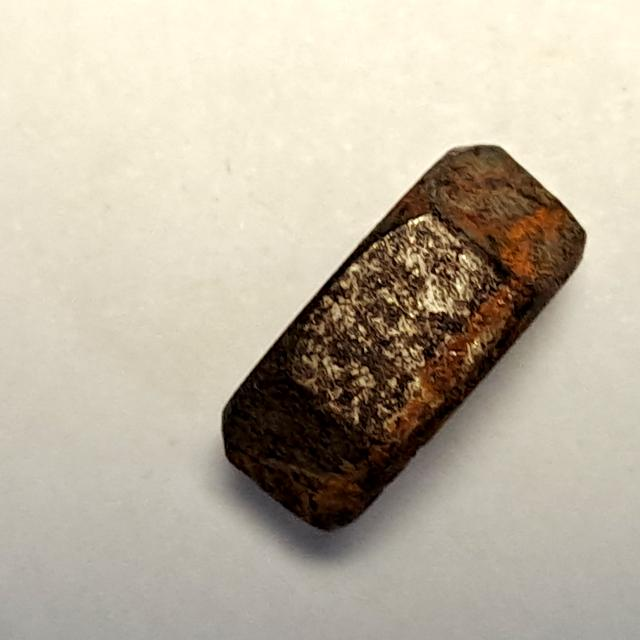Side_Rust: (207, 123, 603, 553)
